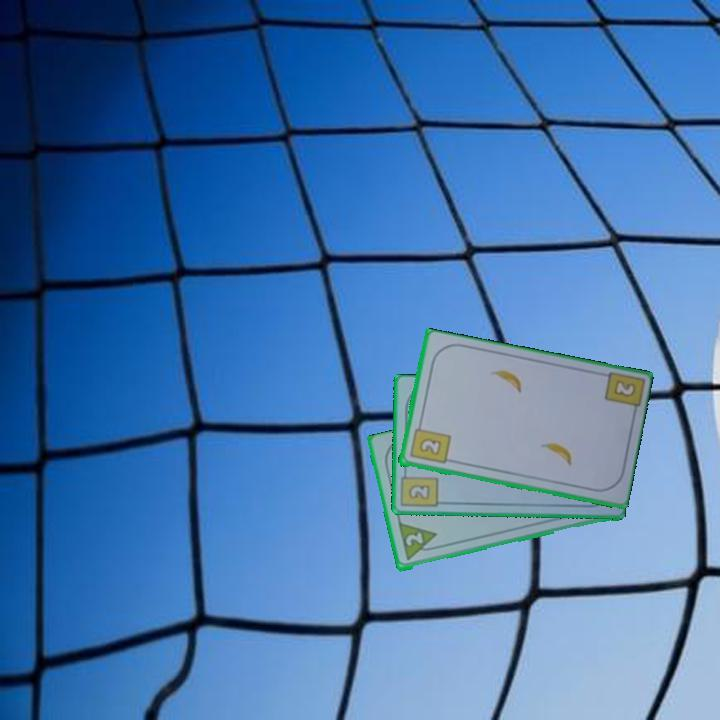2b: (406, 419, 453, 467), (398, 465, 441, 510), (610, 377, 639, 400)
2p: (402, 529, 426, 550)
